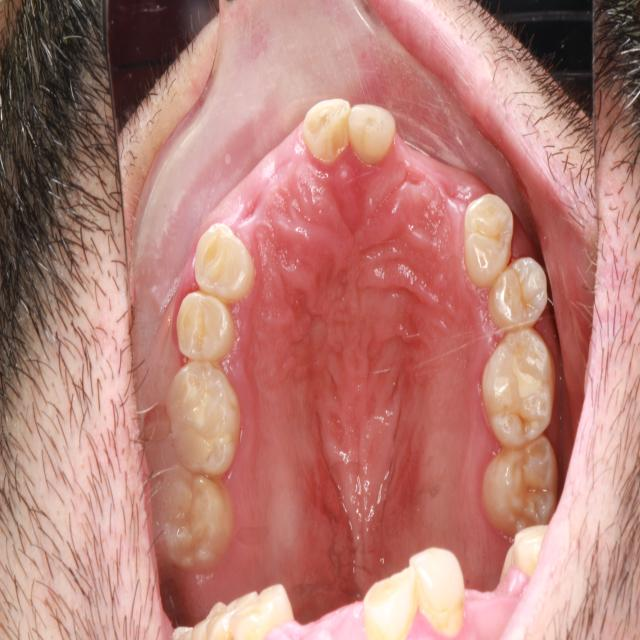tooth: (472, 318, 562, 454), (474, 425, 568, 547), (158, 354, 251, 476), (150, 459, 239, 579), (456, 181, 520, 295), (482, 243, 550, 337), (167, 285, 239, 371), (193, 218, 260, 309), (296, 82, 355, 173), (345, 93, 400, 176)
